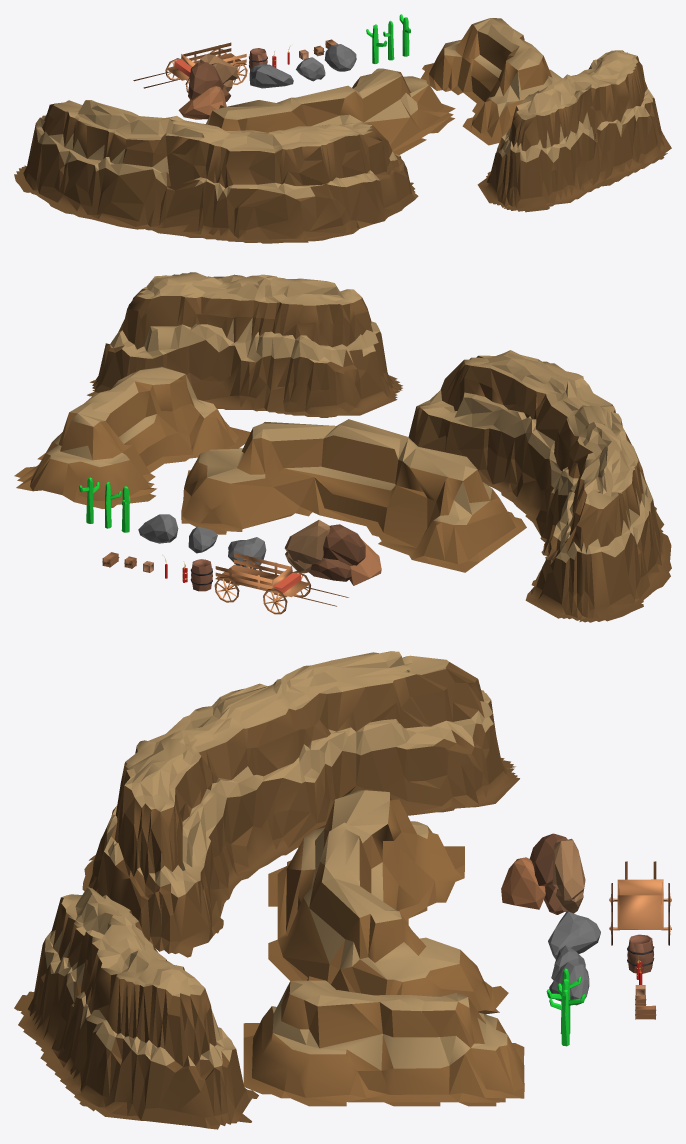
The model's file is western.fbx.
3 views of the same model, one above another, from view 1: azimuth 30°, elevation 25°; view 2: azimuth 150°, elevation 25°; view 3: azimuth 270°, elevation 25° (orthographic). The views are drawn at different scales.
Visible parts, largest first — view 1: Mountain4, Mountain3, Mountain2, Mountain, Wagon, BrownRock3, BrownRock1, Rock3, Rock, BrownRock2, Rock2; view 2: Mountain4, Mountain3, Mountain2, Mountain, Wagon, BrownRock1, BrownRock2, Rock, Rock3, BrownRock3, Barrel, Rock2; view 3: Mountain4, Mountain3, Mountain2, Mountain, Wagon, BrownRock2, BrownRock3, Rock3, BrownRock1, Barrel, Rock.
Boxes of the visible parts, x1,y1,x2,y2 form: Mountain4: (14, 100, 418, 243); Mountain3: (477, 50, 671, 212); Mountain2: (203, 68, 455, 155); Mountain: (420, 18, 562, 145); Wagon: (133, 42, 247, 92); BrownRock3: (178, 85, 226, 119); BrownRock1: (188, 62, 230, 101); Rock3: (249, 64, 293, 88); Rock: (324, 44, 356, 71); BrownRock2: (200, 54, 237, 91); Rock2: (296, 57, 325, 81); Mountain4: (408, 350, 671, 622); Mountain3: (87, 272, 402, 417); Mountain2: (181, 419, 526, 572); Mountain: (14, 366, 250, 508); Wagon: (214, 553, 348, 614); BrownRock1: (309, 524, 365, 581); BrownRock2: (284, 520, 330, 573); Rock: (138, 514, 178, 543); Rock3: (228, 537, 266, 569); BrownRock3: (349, 539, 381, 585); Barrel: (190, 559, 212, 591); Rock2: (188, 526, 217, 553); Mountain4: (82, 651, 519, 957); Mountain3: (14, 887, 258, 1129); Mountain2: (268, 790, 508, 1014); Mountain: (243, 976, 524, 1106); Wagon: (609, 861, 671, 945); BrownRock2: (552, 838, 585, 913); BrownRock3: (501, 857, 545, 909); Rock3: (548, 911, 600, 959); BrownRock1: (529, 833, 567, 914); Barrel: (627, 934, 654, 973); Rock: (549, 962, 589, 1005).
Bounding box in the file's own units: 18106 × 3129 × 13181.
